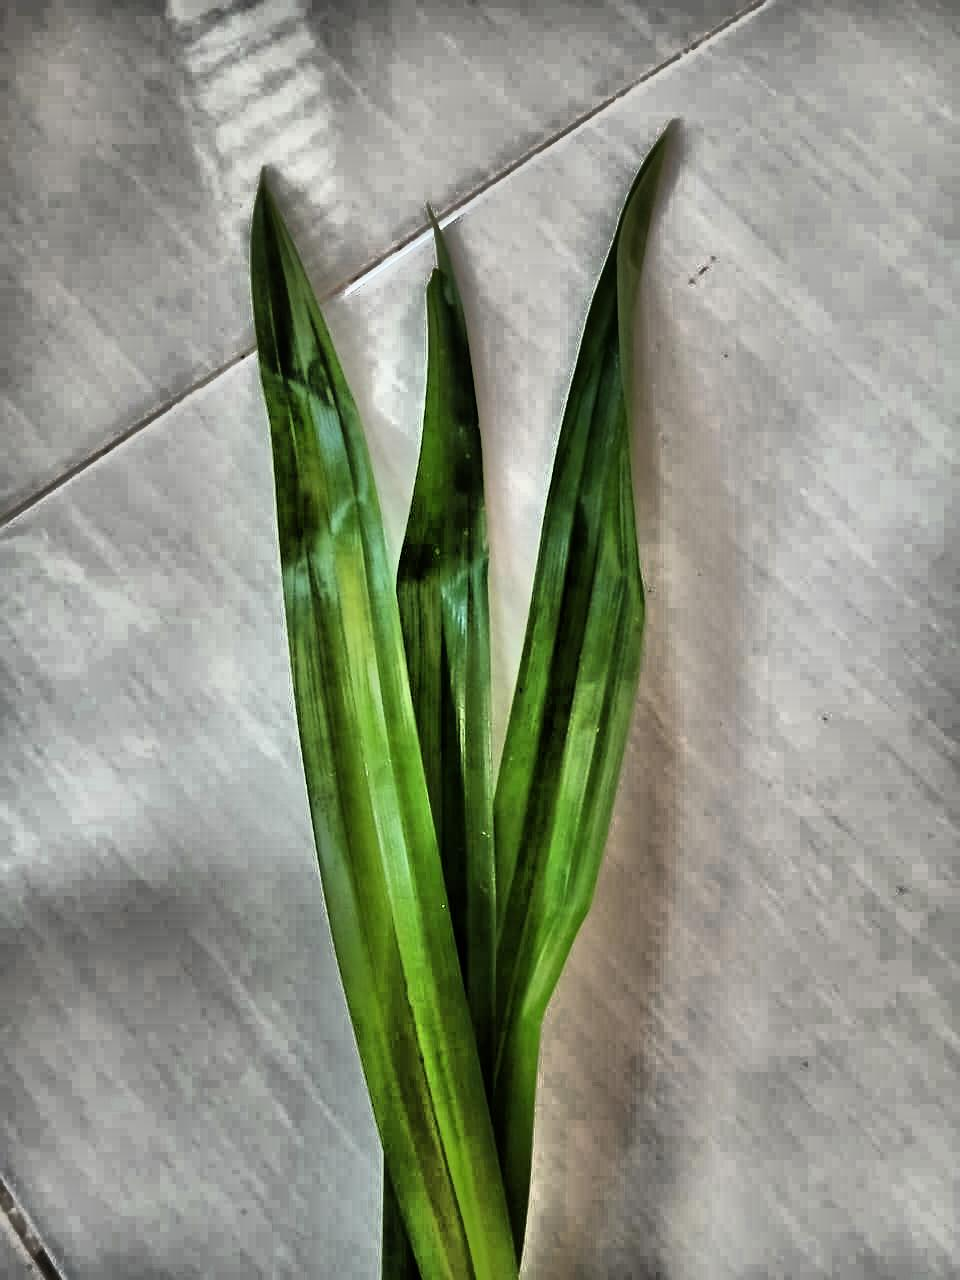daun pandan: (252, 130, 668, 1279)
